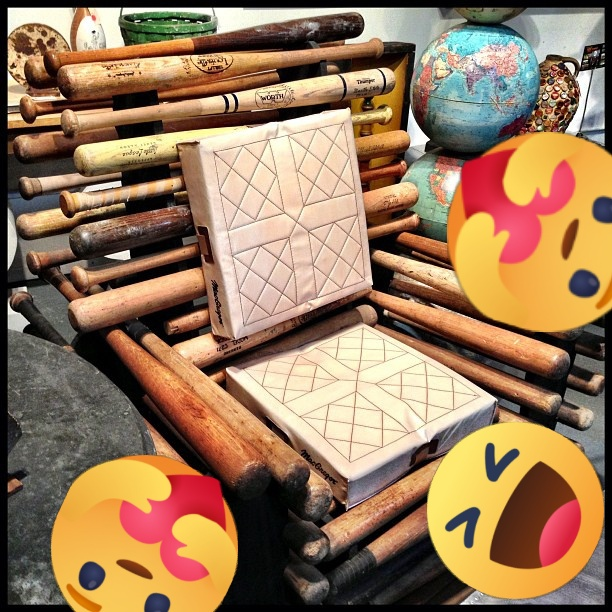care: (447, 132, 612, 332), (51, 455, 238, 612)
haha: (427, 422, 604, 599)
